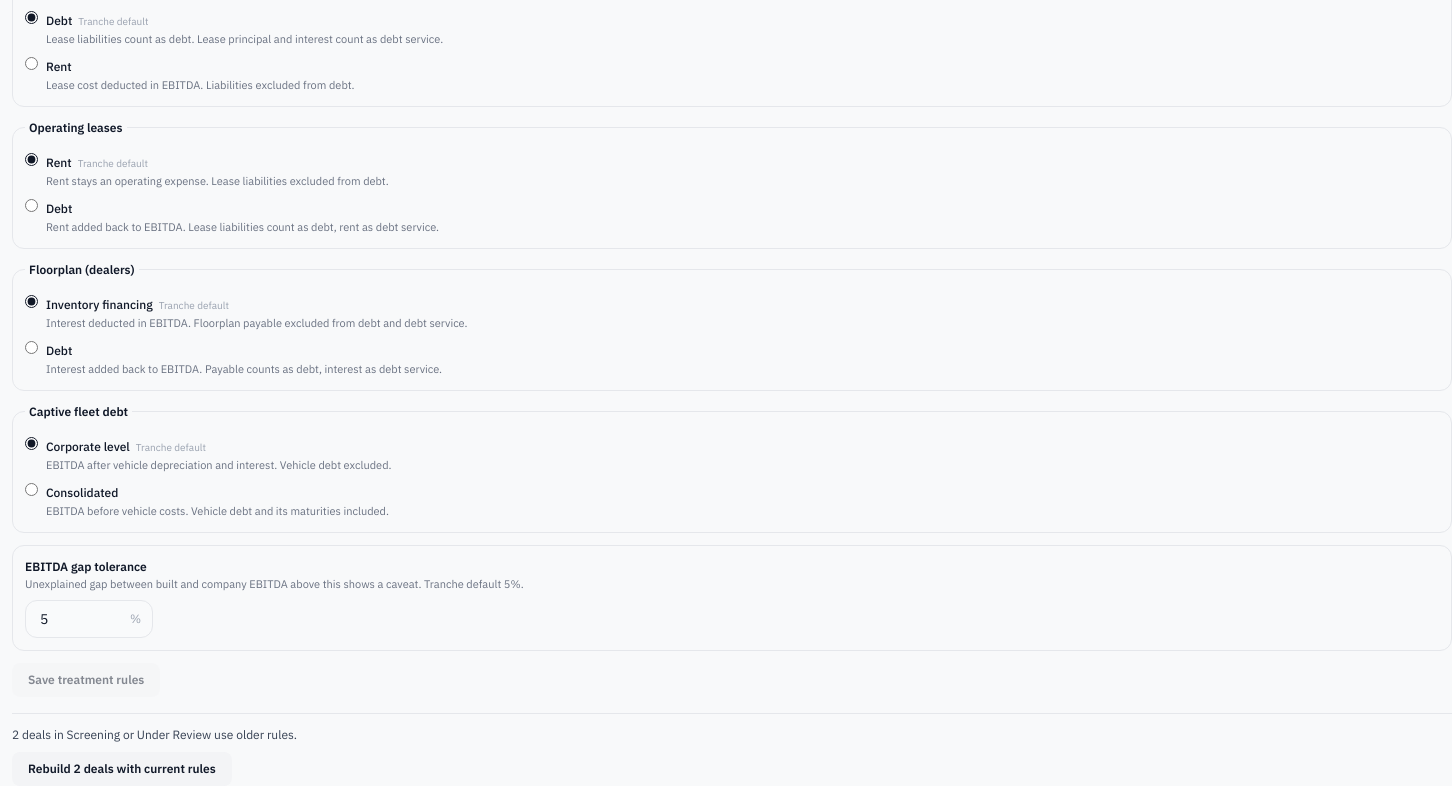
TreatmentRulesCard › bulk rebuild (admin) › asks first, then lists what it skipped
The image size is (1452, 786).
(page scrolled)
Click the button "Rebuild 2 deals with current rules": point(122, 769) [12,752,232,785]
(page scrolled)
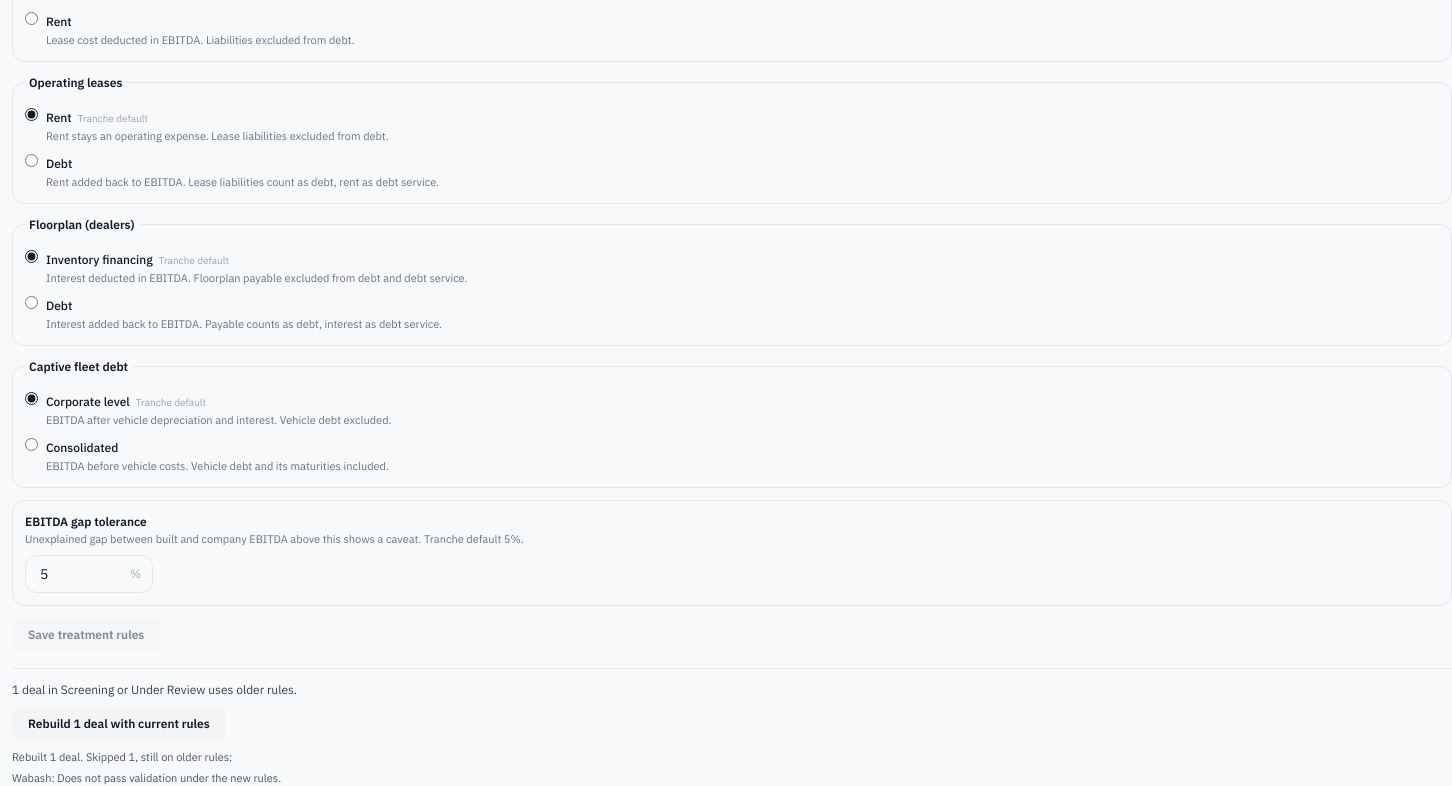
Expected: the text "Rebuilt 1 deal. Skipped 1, still on older rules:" is shown, [12,750,232,764]
Expected: the list item "Wabash: Does not pass validation under the new rules." is shown, [12,770,281,784]
